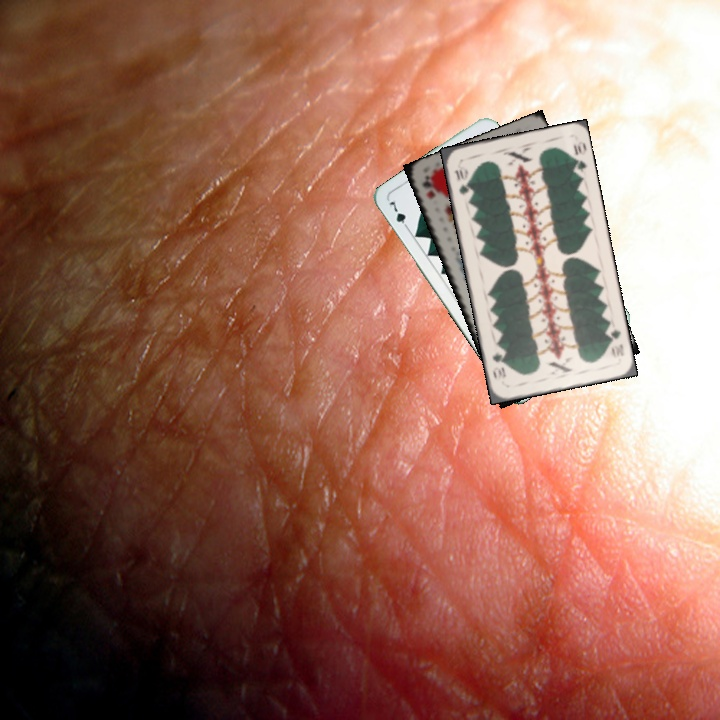G10: (603, 322, 626, 361), (451, 161, 472, 198)
G7: (385, 197, 412, 233)
HK: (418, 172, 438, 201)
